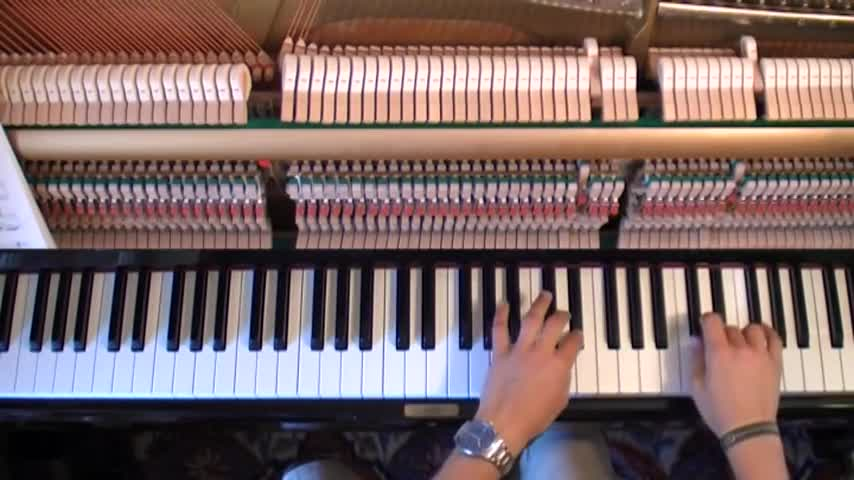left: (480, 287, 586, 425)
right: (684, 310, 788, 438)
